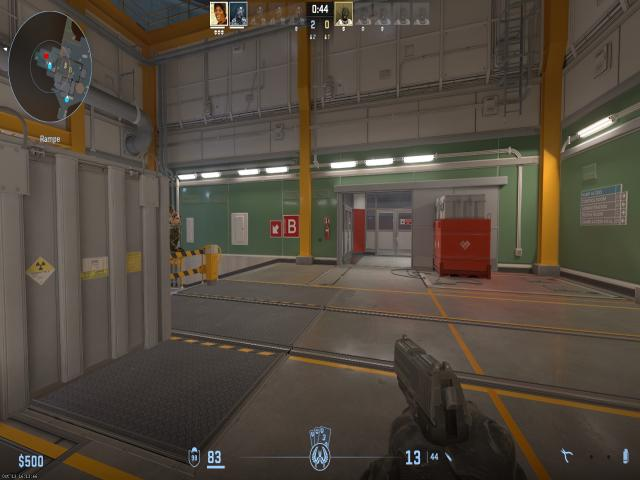T: (168, 204, 184, 254)
T-Head: (169, 204, 176, 214)
